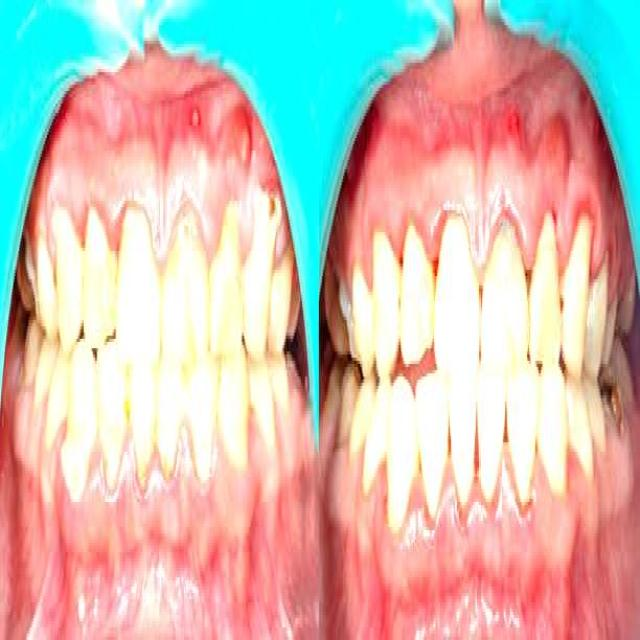caries: (602, 363, 632, 459)
